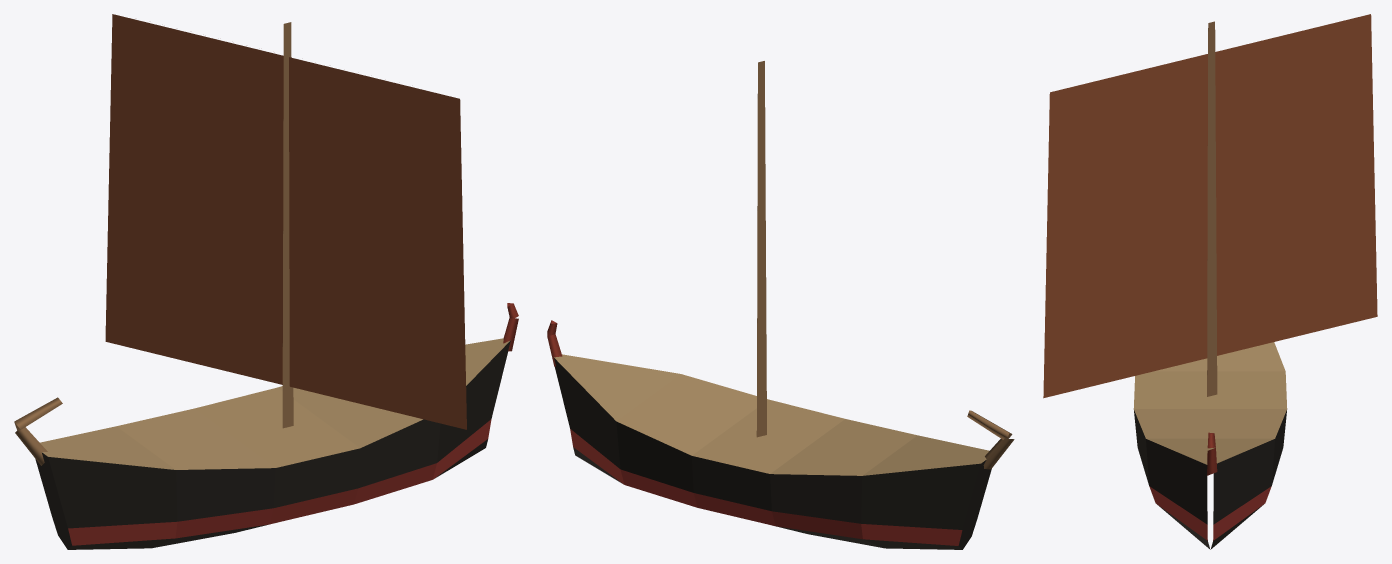
The model's file is hull_eur_greek_large_lod.glb.
The picture shows the model from 3 angles, left to right: view 1: azimuth 30°, elevation 25°; view 2: azimuth 150°, elevation 25°; view 3: azimuth 270°, elevation 25°; orthographic projection. The views are drawn at different scales.
Visible parts, largest first — view 1: lod; view 2: lod; view 3: lod.
Boxes of the visible parts, <box> form: lod: <box>14,14,518,549</box>; lod: <box>547,61,1014,549</box>; lod: <box>1043,14,1377,549</box>.
Size of the model in its own units: 19.31 by 18.25 by 12.
